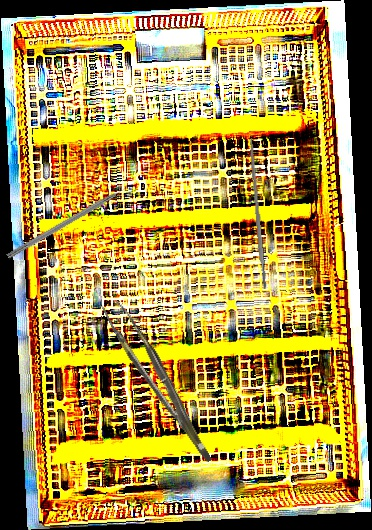Hook Surgical: (5, 179, 139, 261)
Scalpel Handle: (247, 138, 268, 290)
Tissue Forceps: (100, 292, 213, 474)
